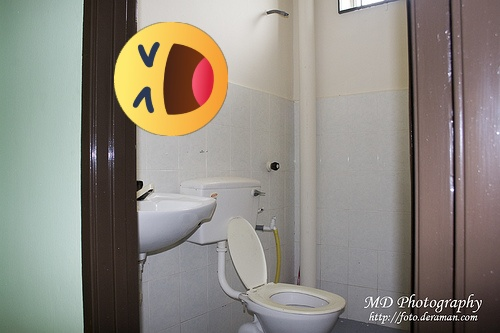haha: (114, 22, 228, 136)
